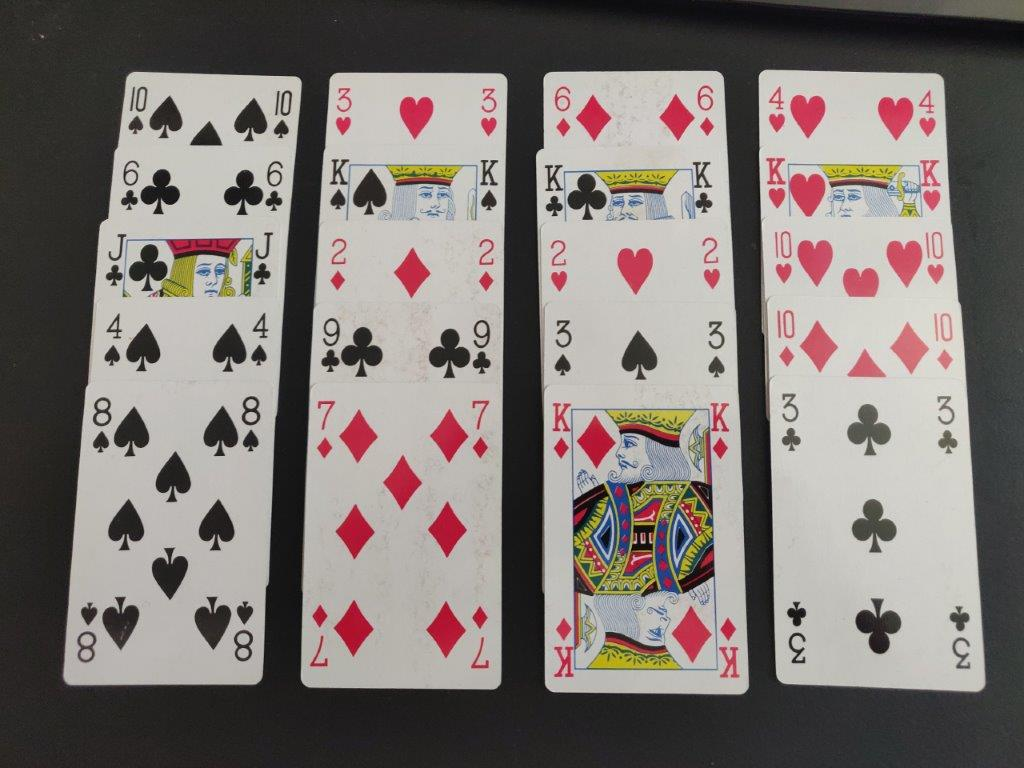10D: (767, 302, 806, 372), (927, 305, 959, 376)
10H: (918, 226, 953, 294), (768, 226, 800, 288)
10S: (118, 76, 155, 141), (267, 84, 297, 144)
2D: (324, 230, 353, 299), (473, 234, 499, 301)
2H: (542, 233, 575, 298), (695, 233, 728, 298)
3C: (772, 388, 811, 459), (929, 389, 965, 462)
3H: (331, 81, 362, 145), (474, 84, 504, 144)
3S: (701, 315, 731, 383), (550, 315, 580, 382)
4H: (762, 77, 794, 139), (915, 84, 941, 142)
4S: (246, 307, 273, 373), (101, 307, 128, 371)
6C: (118, 154, 146, 218), (261, 155, 289, 218)
6D: (692, 81, 722, 142), (550, 79, 577, 144)
7D: (308, 391, 342, 465), (466, 391, 496, 461)
8S: (235, 390, 269, 459), (86, 393, 121, 459)
9C: (317, 312, 346, 377), (467, 313, 495, 377)
JC: (250, 228, 279, 293), (102, 227, 130, 293)
KC: (538, 158, 571, 224), (689, 156, 720, 219)
KD: (546, 398, 579, 468), (704, 399, 735, 465)
KH: (913, 156, 947, 216), (761, 152, 792, 217)
KS: (473, 151, 504, 217), (323, 153, 354, 215)
